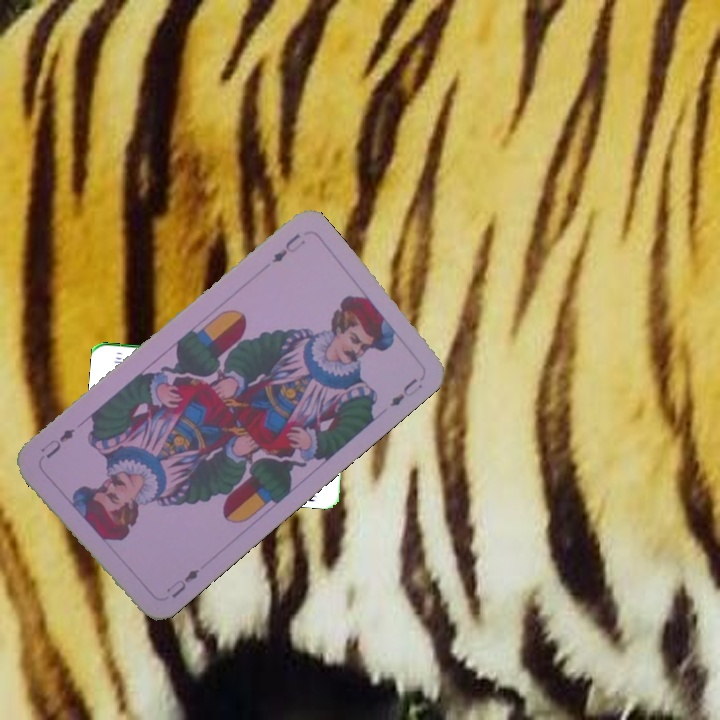EU: (267, 230, 308, 266), (162, 565, 202, 601)
